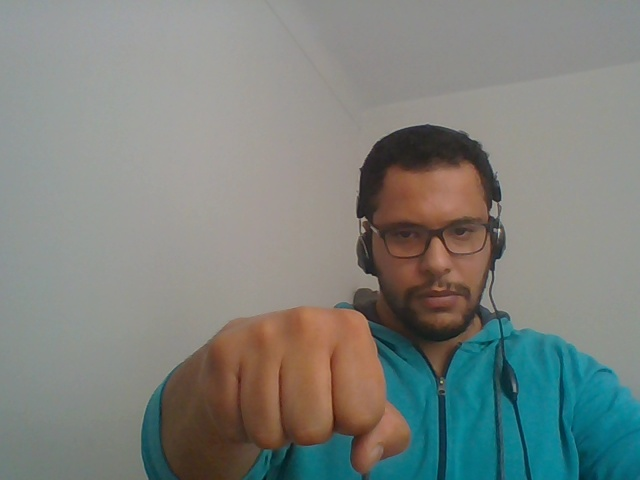yes: (156, 270, 417, 477)
